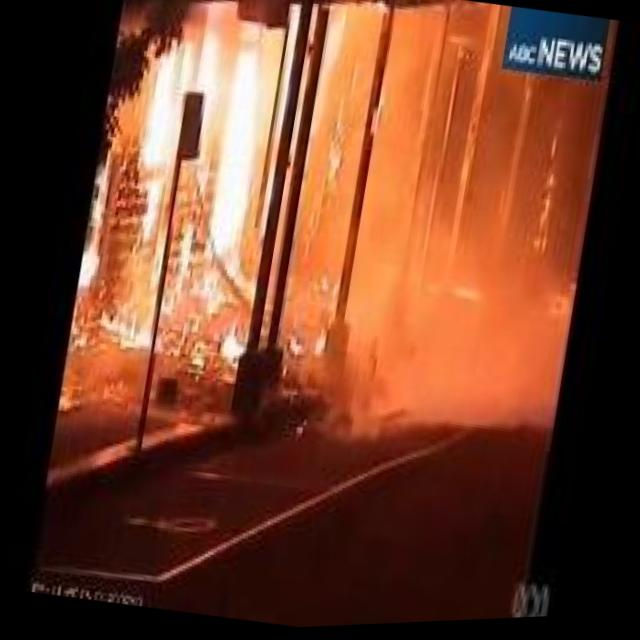fire: (96, 14, 296, 377)
